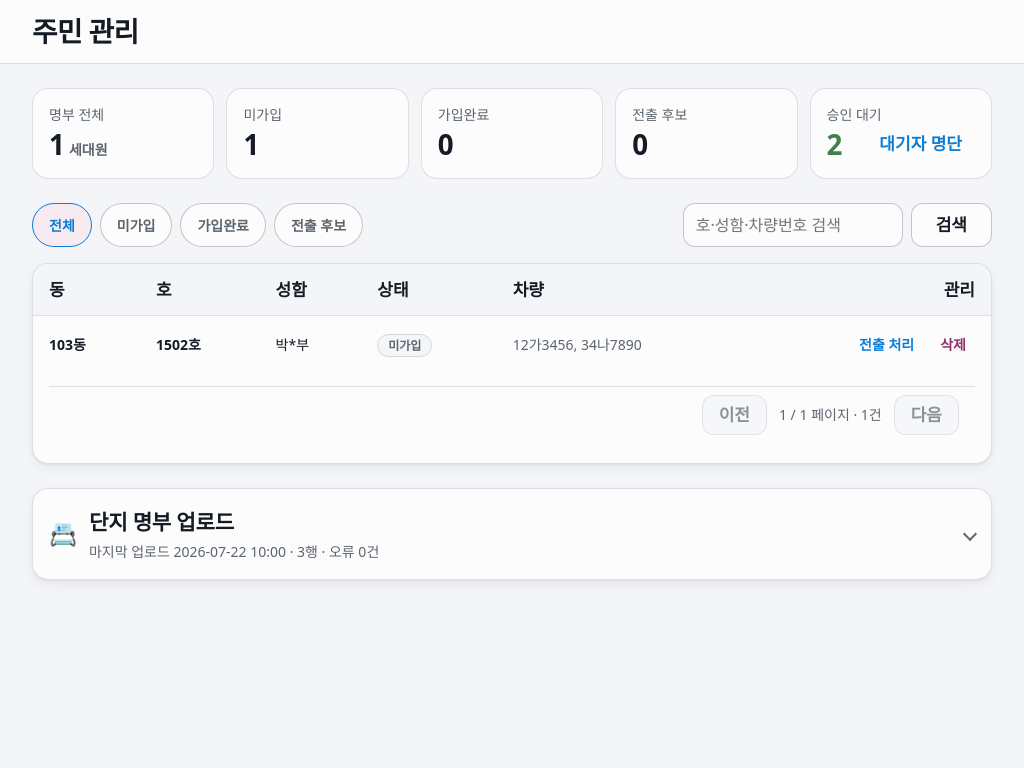
Test case: Approvals › 서버가 마스킹한 이름을 그대로 노출한다(재마스킹 없음)
The image size is (1024, 768).
Click the button "대기자 명단": (921, 143) [866,127,975,159]
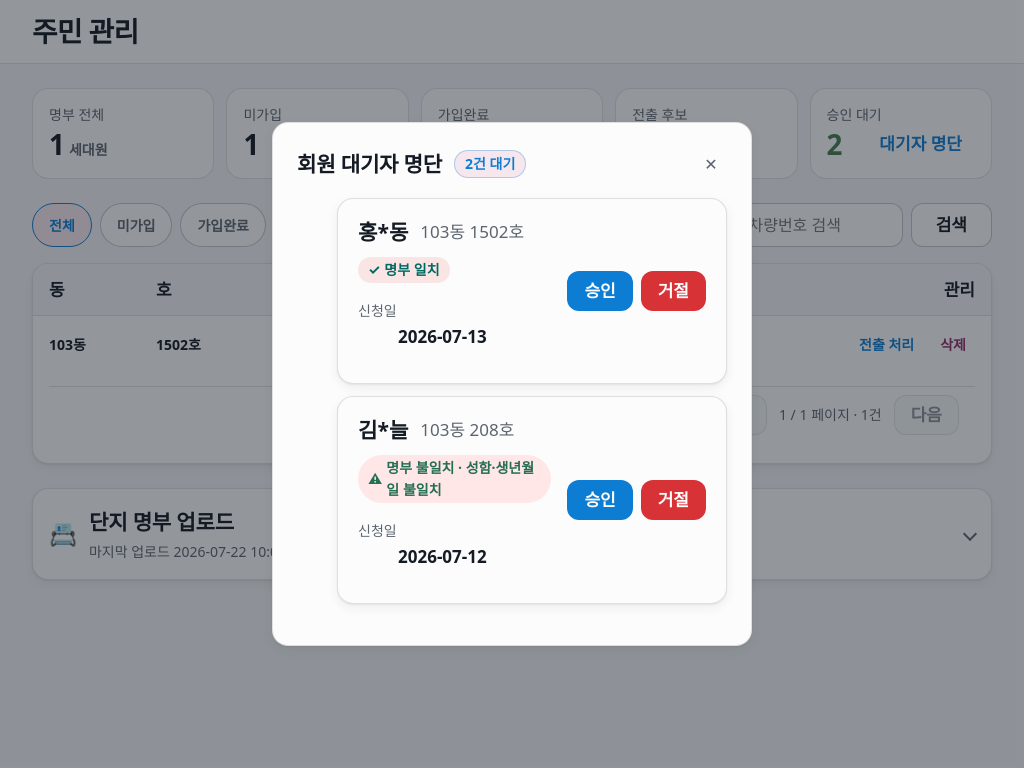
Result: the text "홍*동" is shown at [358,215,408,249]
Result: the text "103동 1502호" is shown at [420,218,524,245]
